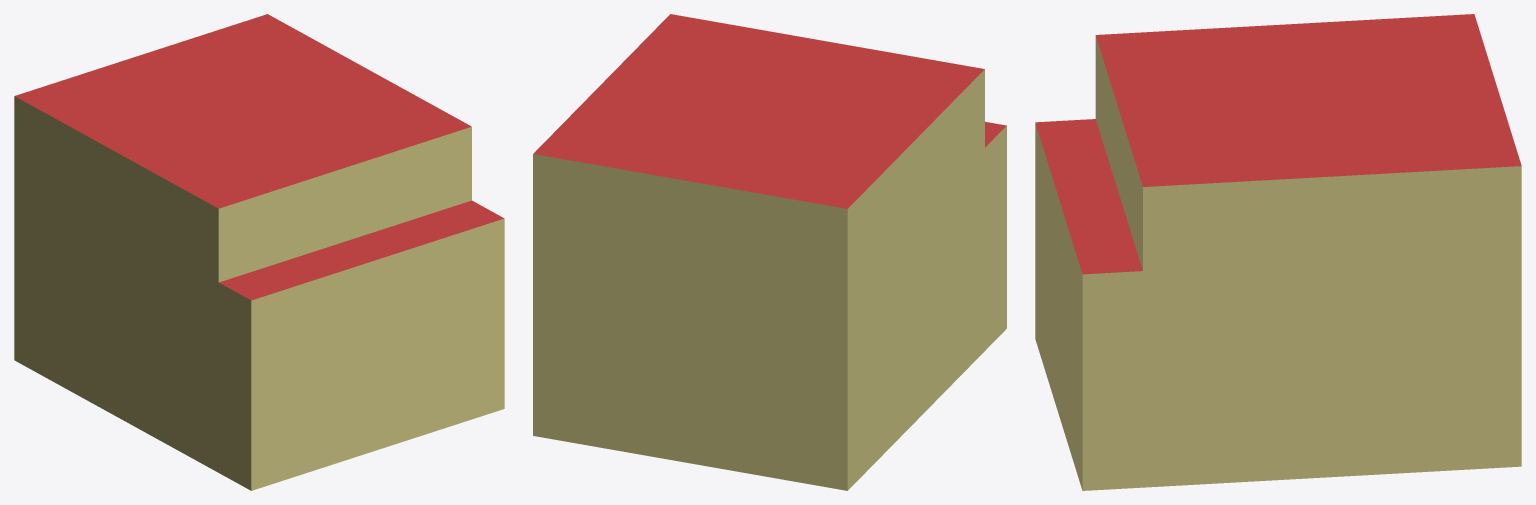
The picture shows the model from 3 angles, left to right: view 1: azimuth 30°, elevation 25°; view 2: azimuth 150°, elevation 25°; view 3: azimuth 270°, elevation 25°; orthographic projection. The views are drawn at different scales.
Size of the model in its own units: 11.16 by 13.01 by 8.87.
